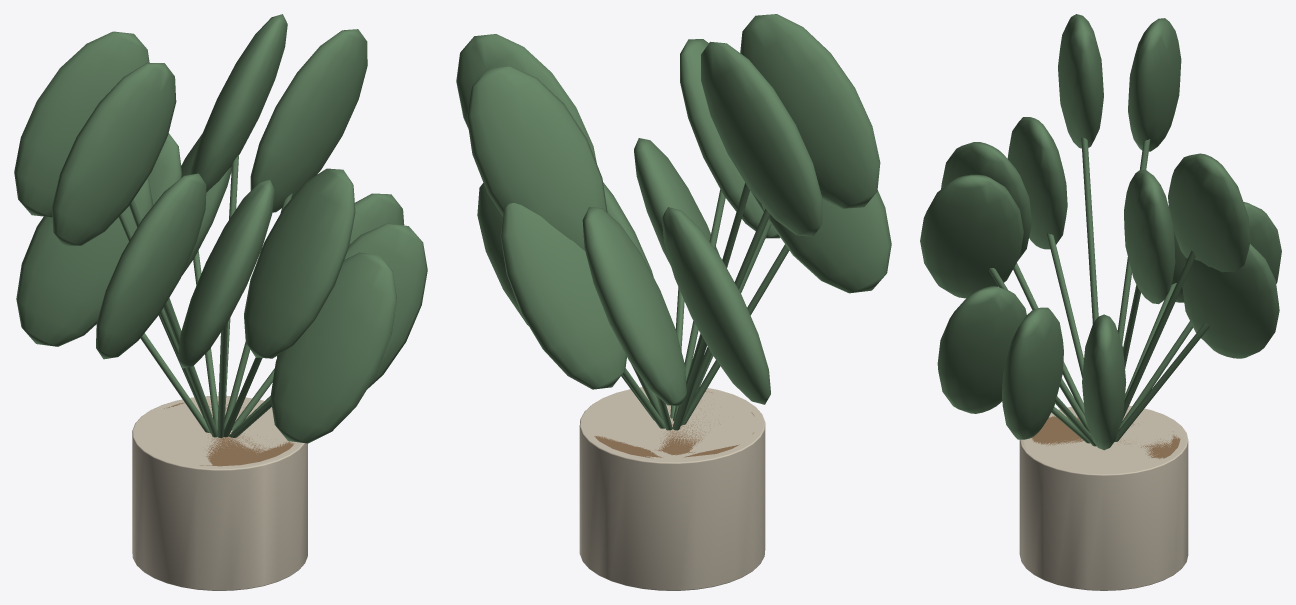
File: P_Plant.fbx
3 views of the same model, side by side, from view 1: azimuth 30°, elevation 25°; view 2: azimuth 150°, elevation 25°; view 3: azimuth 270°, elevation 25° (orthographic). The views are drawn at different scales.
Visible parts, largest first — view 1: P_Plant; view 2: P_Plant; view 3: P_Plant.
Part boxes in pixels (x1=…): P_Plant: x1=14, y1=14, x2=427, y2=590; P_Plant: x1=456, y1=14, x2=891, y2=590; P_Plant: x1=920, y1=14, x2=1281, y2=590.
Size of the model in its own units: 1.01 by 1.37 by 0.9007.
